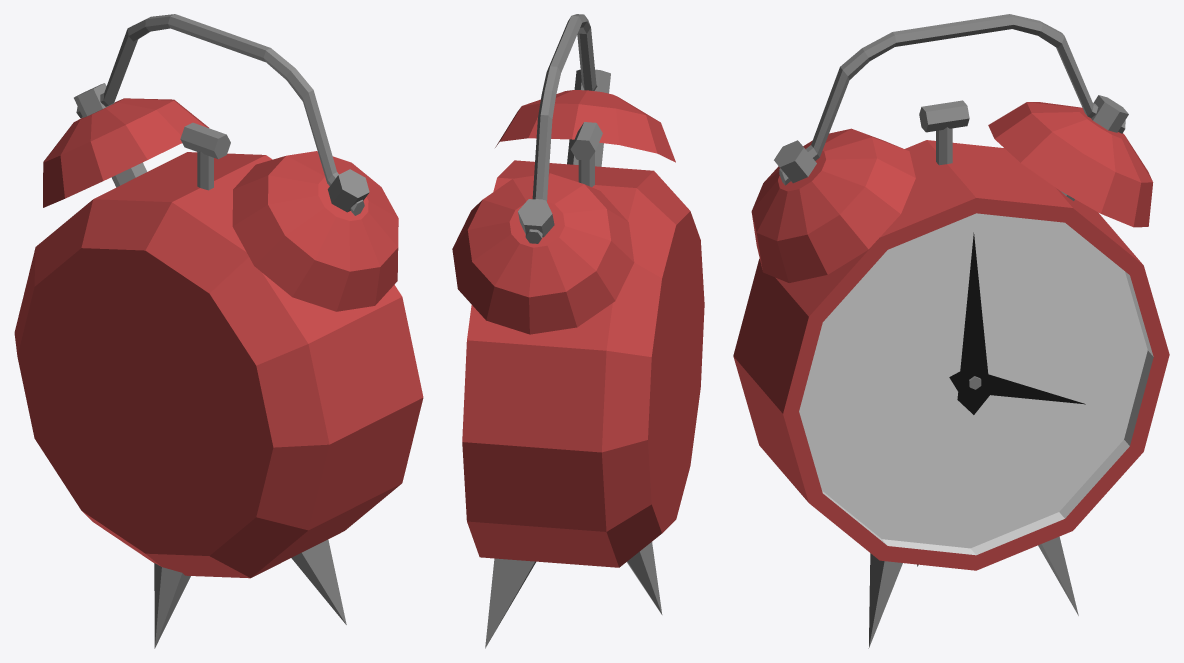
Rendered from clock.glb.
3 views of the same model, side by side, from view 1: azimuth 30°, elevation 25°; view 2: azimuth 150°, elevation 25°; view 3: azimuth 270°, elevation 25° (orthographic). The views are drawn at different scales.
Visible parts, largest first — view 1: Alarm Clock; view 2: Alarm Clock; view 3: Alarm Clock.
Boxes of the visible parts, box(x1,y1,x2,y2) form: Alarm Clock: box(14, 14, 423, 648); Alarm Clock: box(452, 14, 704, 648); Alarm Clock: box(733, 14, 1169, 648).
Bounding box in the file's own units: 0.0498 × 0.1057 × 0.0717.
Materials: 1 (1 with a texture image).
